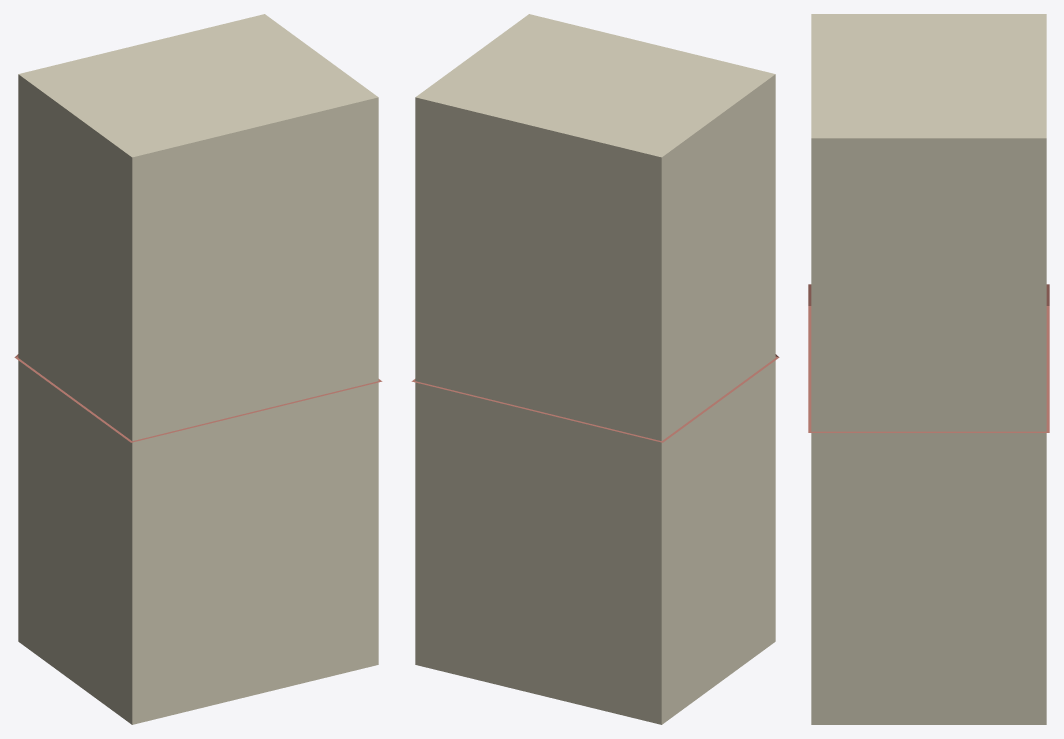
3 renders of one model, left to right at view 1: azimuth 30°, elevation 25°; view 2: azimuth 150°, elevation 25°; view 3: azimuth 270°, elevation 25°, orthographic. The views are drawn at different scales.
Parts seen in each view (by area): view 1: building_walls_0, building_roof_0; view 2: building_walls_0, building_roof_0; view 3: building_walls_0, building_roof_0.
Boxes of the visible parts, x1,y1,x2,y2 form: building_walls_0: (18,14,378,724); building_roof_0: (14,354,382,442); building_walls_0: (415,14,775,724); building_roof_0: (411,354,779,442); building_walls_0: (811,14,1046,724); building_roof_0: (808,284,1049,432).
Bounding box in the file's own units: 10.2 × 22 × 8.2.
